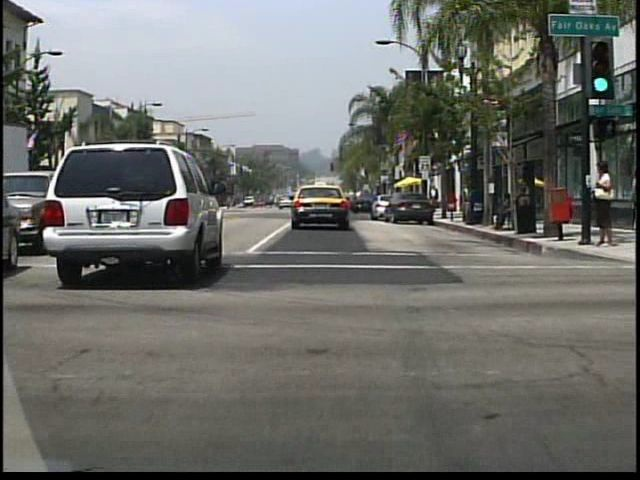person: (587, 162, 615, 248), (491, 191, 518, 232), (515, 179, 529, 229), (428, 184, 441, 213)
